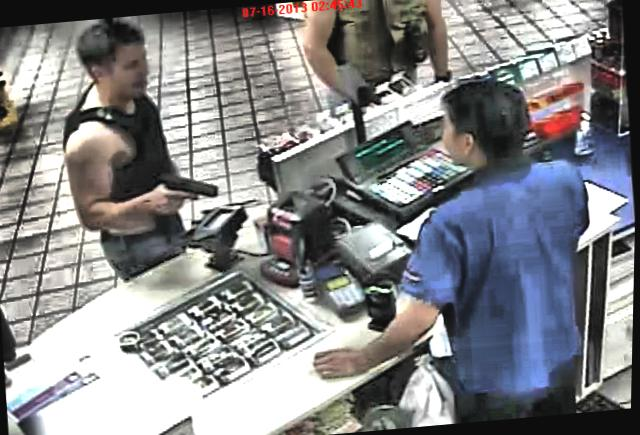pistol: (152, 172, 220, 216)
